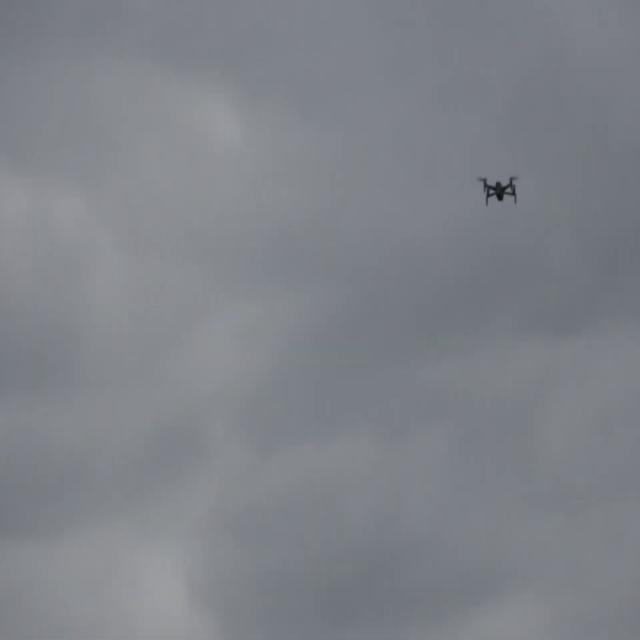Drons: (473, 170, 521, 207)
